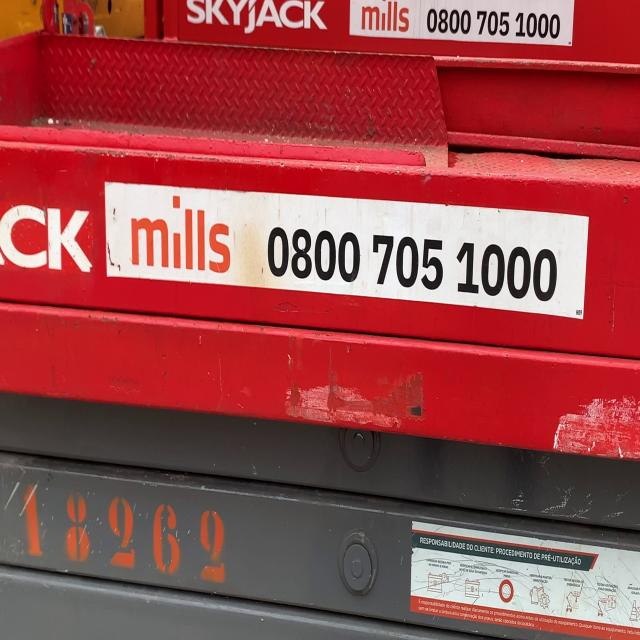Adesivo Longo: (101, 177, 592, 324)
